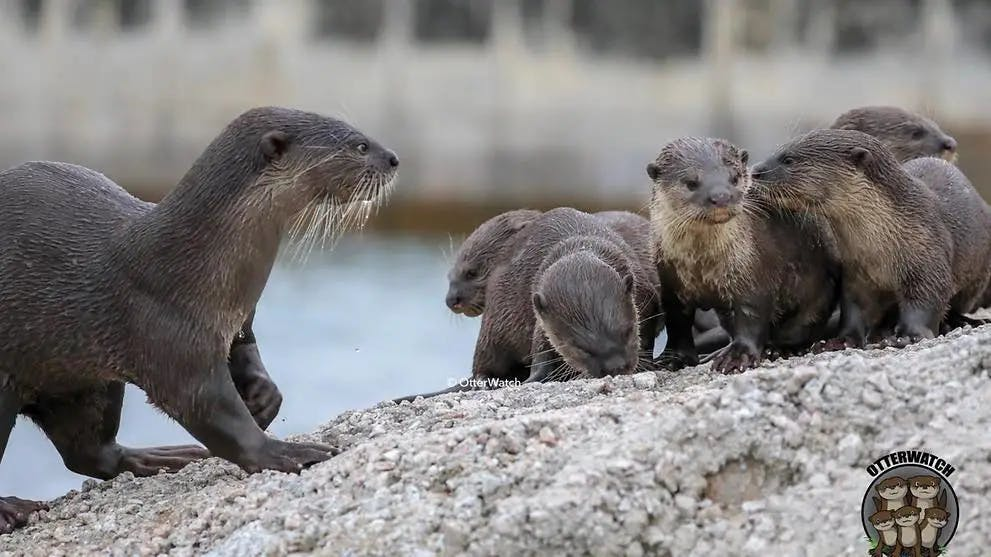otter: (1, 87, 417, 499), (753, 114, 991, 346), (638, 101, 774, 390)
